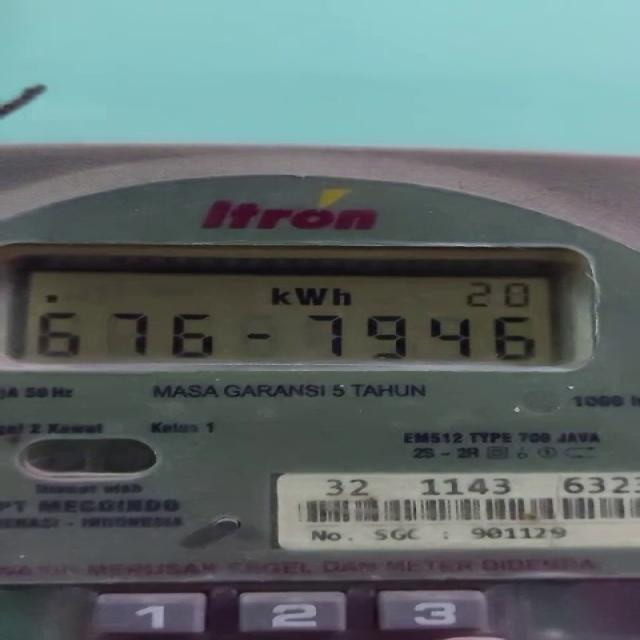LCD: (9, 253, 590, 367)
